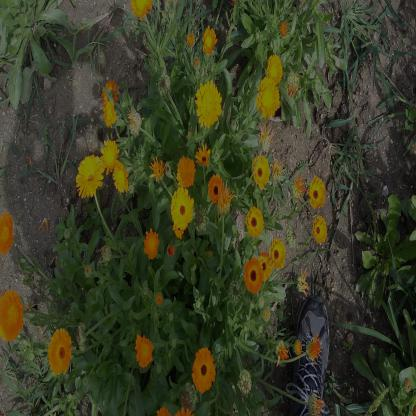marigold: (194, 79, 223, 129), (0, 289, 24, 343), (74, 154, 104, 197), (48, 327, 72, 376), (192, 346, 216, 394), (170, 186, 194, 230), (256, 75, 280, 119), (242, 256, 264, 294), (100, 136, 120, 174), (134, 330, 153, 368), (244, 204, 264, 240), (111, 158, 130, 195), (176, 154, 196, 188), (252, 154, 270, 189), (143, 225, 160, 261), (268, 237, 286, 271), (308, 175, 326, 209), (265, 52, 284, 84), (0, 211, 13, 256), (100, 79, 119, 108), (208, 174, 225, 206), (311, 214, 328, 244), (202, 25, 218, 56), (256, 251, 272, 280), (100, 100, 117, 126), (170, 214, 186, 240), (194, 142, 211, 166)
